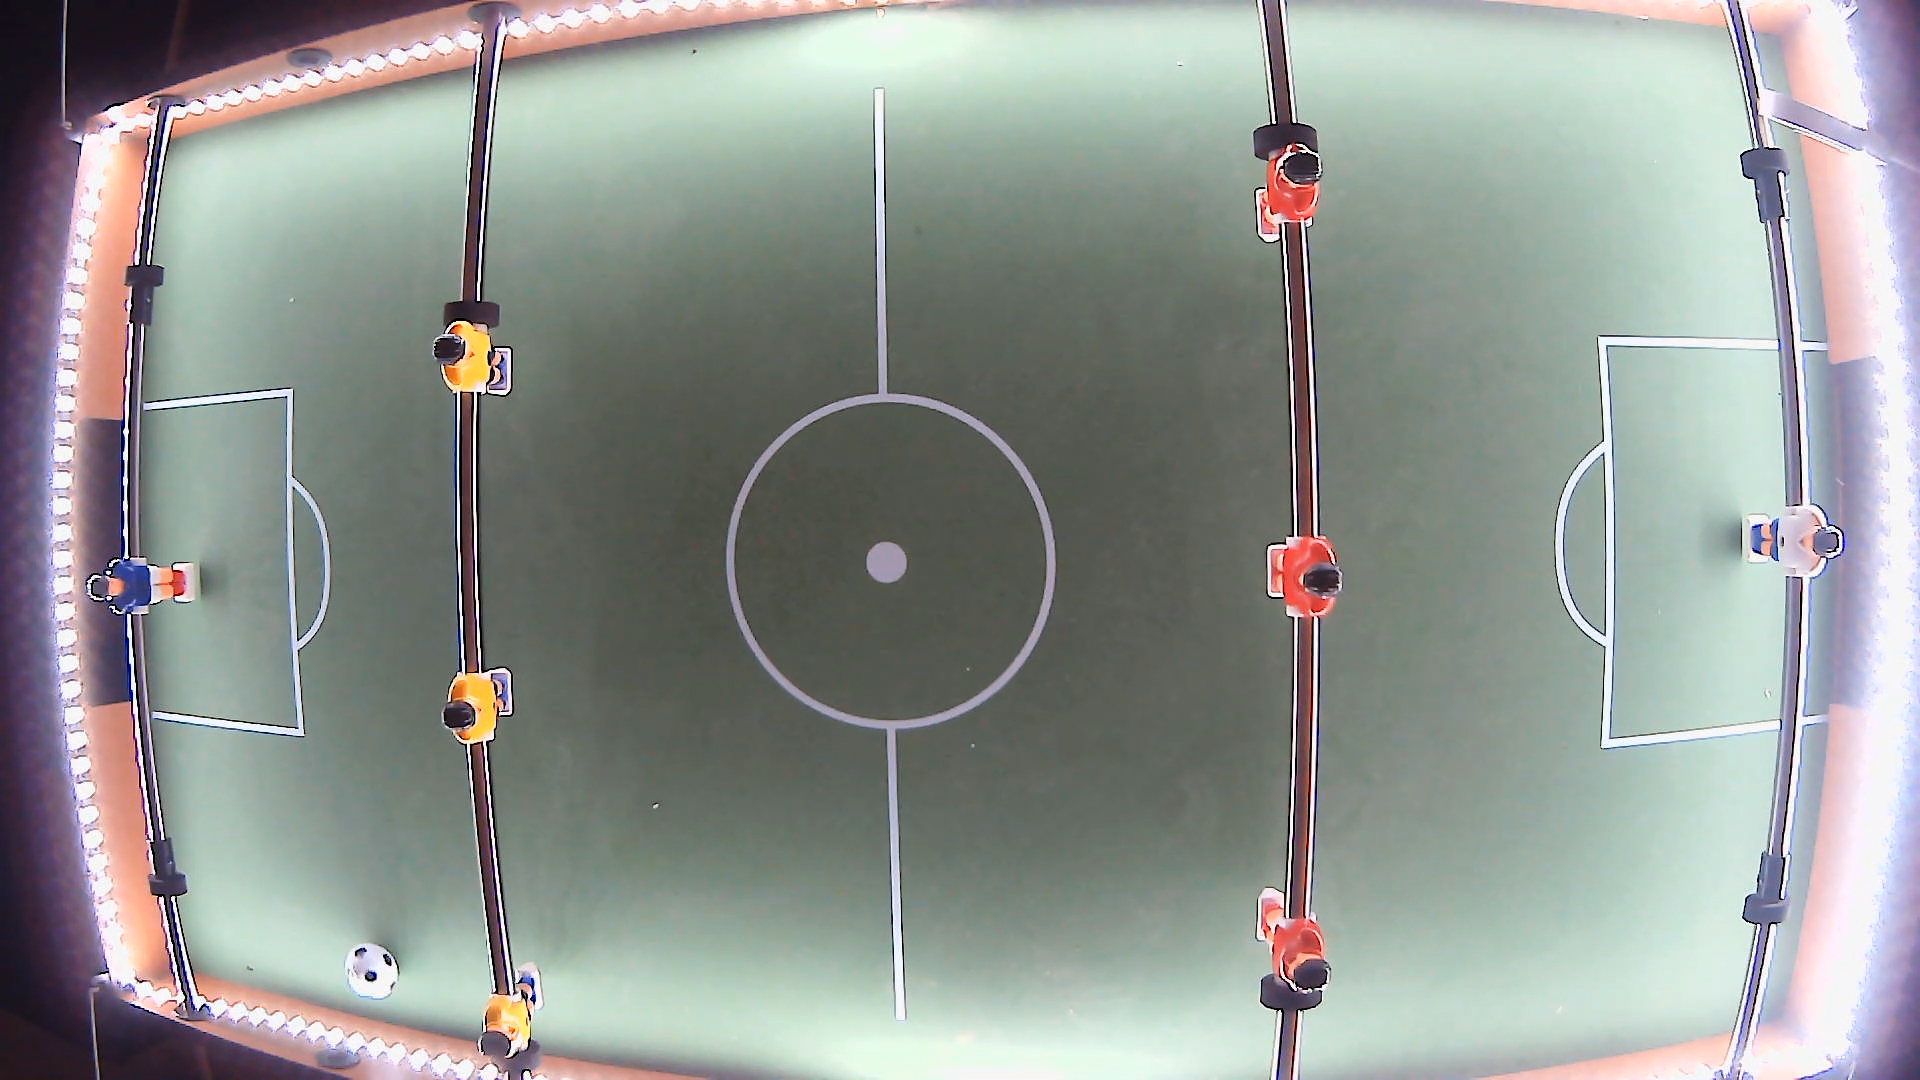Foosball: (343, 942, 400, 1000)
